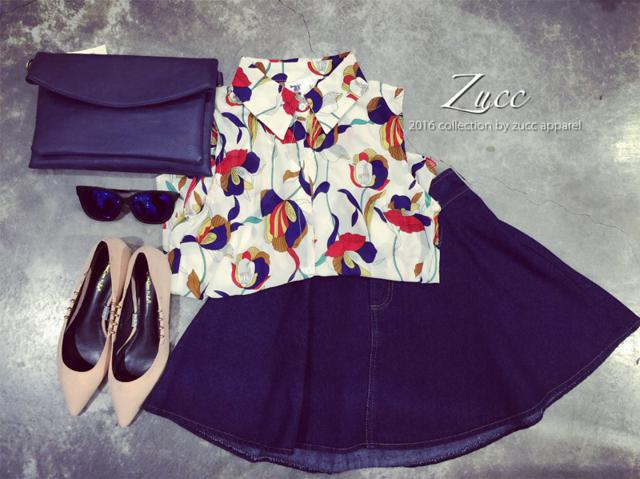Skirts: (134, 167, 639, 477)
Tops: (155, 59, 444, 286)
